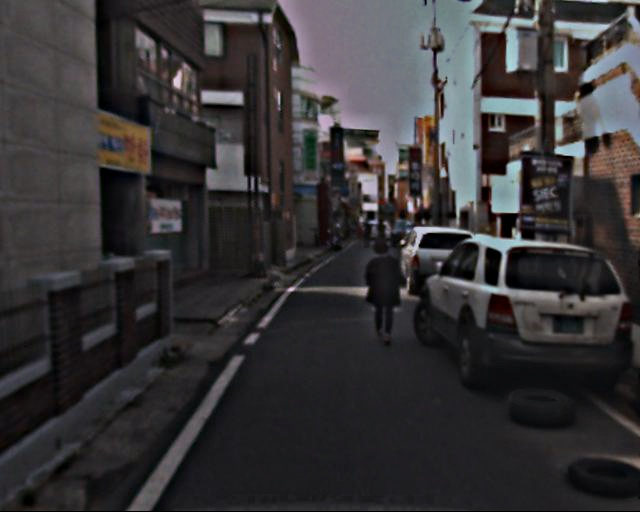person: (361, 240, 405, 347), (364, 219, 388, 250)
